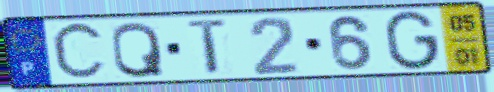2: (246, 14, 303, 77)
6: (327, 13, 374, 72)
C: (48, 19, 109, 85)
G: (383, 8, 442, 72)
Q: (110, 19, 168, 80)
T: (186, 16, 232, 78)
